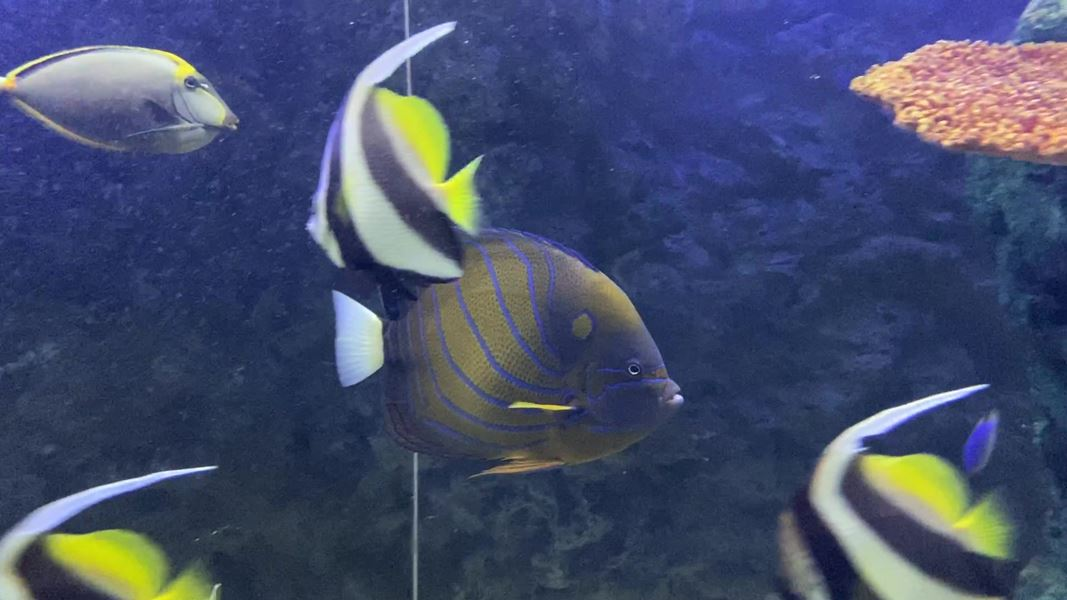Blue ring angelfish: (314, 225, 718, 507)
